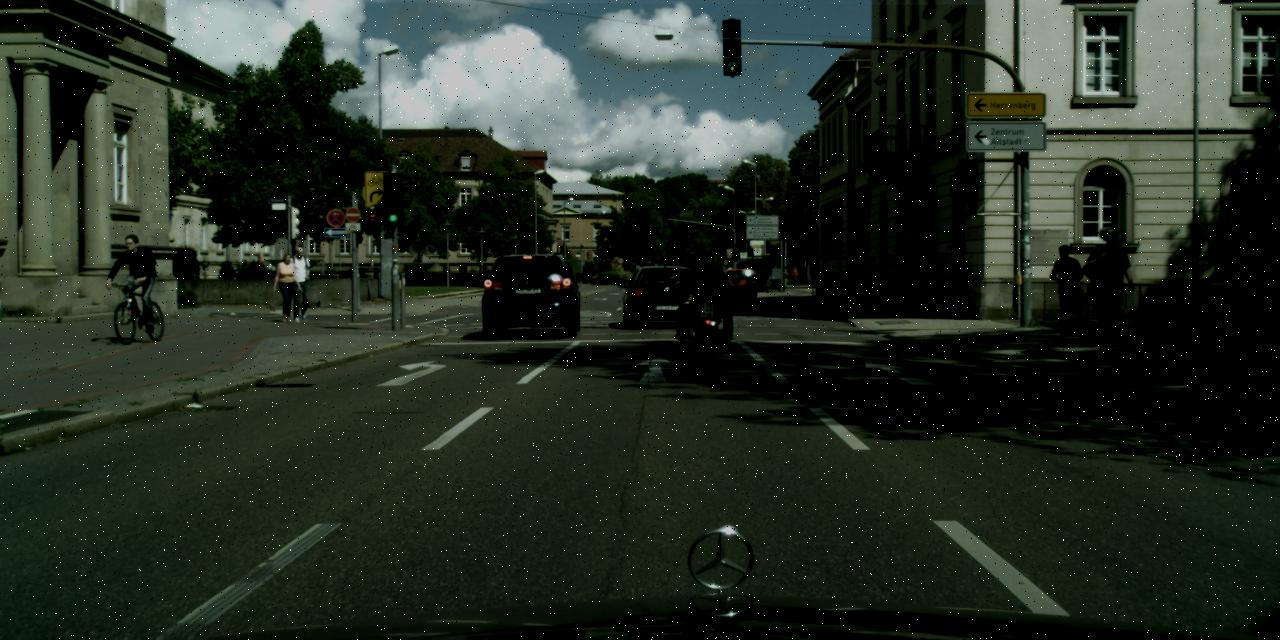ped: (1081, 225, 1134, 354), (1048, 243, 1084, 334), (118, 234, 154, 324), (688, 252, 724, 338), (284, 247, 314, 319), (272, 252, 300, 321), (781, 267, 788, 286), (791, 265, 798, 284)
